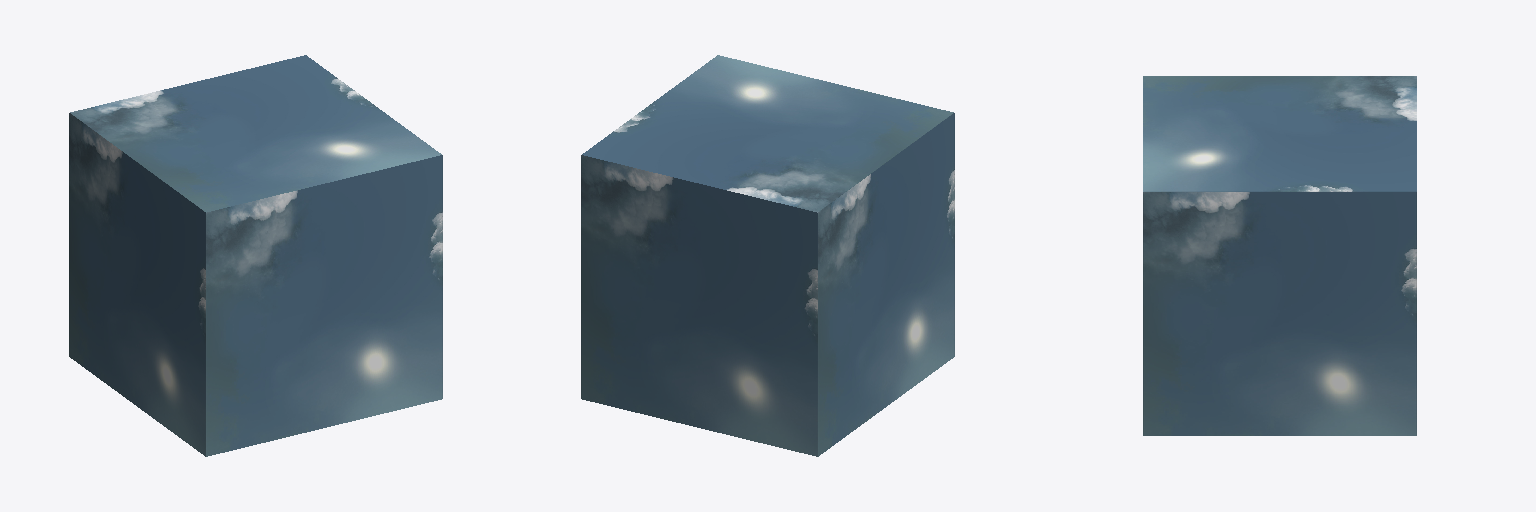
3 views of the same model, side by side, from view 1: azimuth 30°, elevation 25°; view 2: azimuth 150°, elevation 25°; view 3: azimuth 270°, elevation 25° (orthographic).
Parts seen in each view (by area): view 1: Box01; view 2: Box01; view 3: Box01.
Part boxes in pixels (left/top/right/bottom): Box01: left=69, top=55, right=442, bottom=456; Box01: left=581, top=55, right=954, bottom=456; Box01: left=1143, top=76, right=1416, bottom=435.
Size of the model in its own units: 39.84 by 39.34 by 39.84.
Materials: 1 (1 with a texture image).